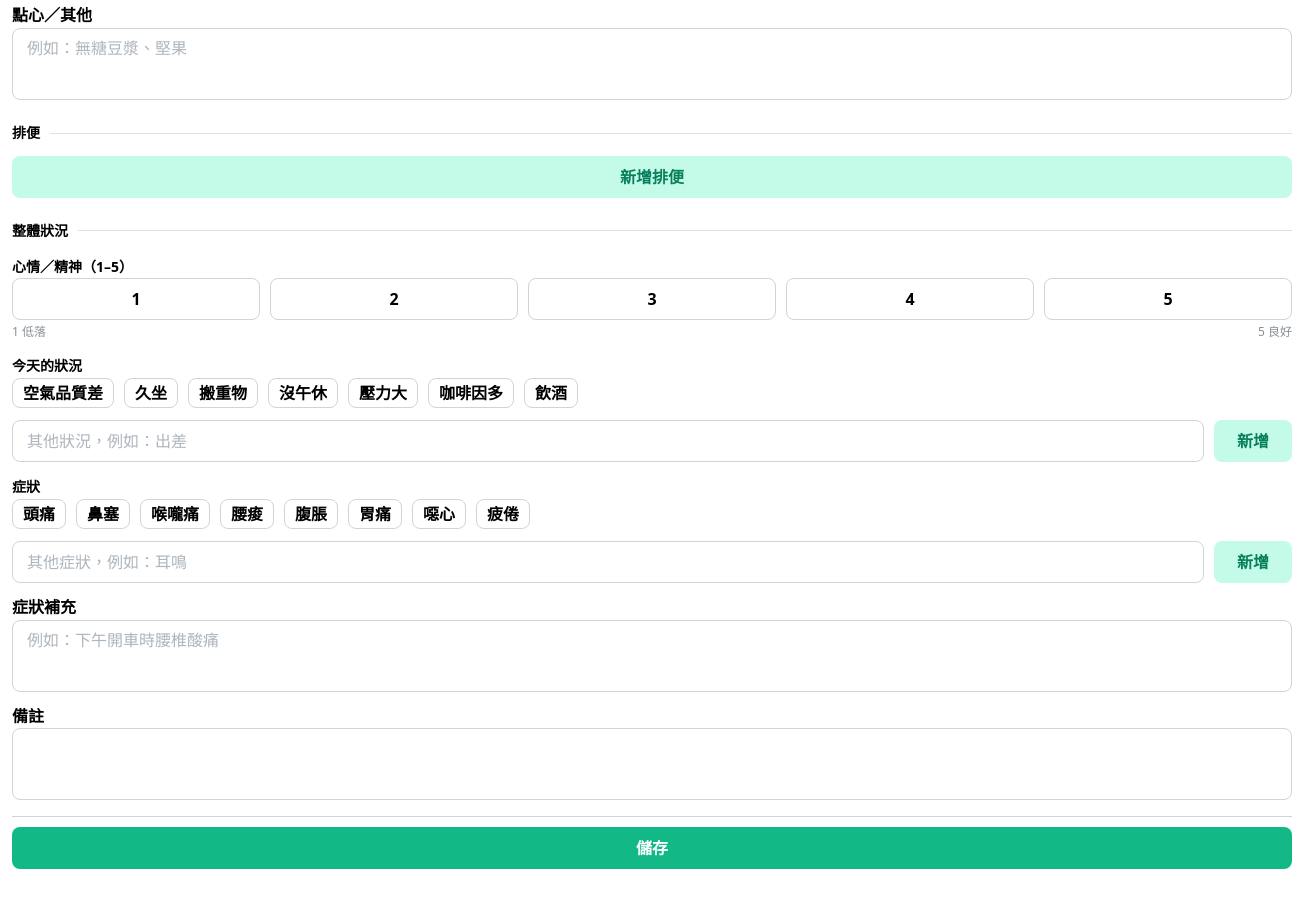
Test case: EntryForm：症狀 › 自己輸入的症狀可以取消選取
(page scrolled)
Step 1. Type "耳鳴" into the field named "新增其他症狀" → (608, 562), box [12, 541, 1204, 583]
Then press Enter
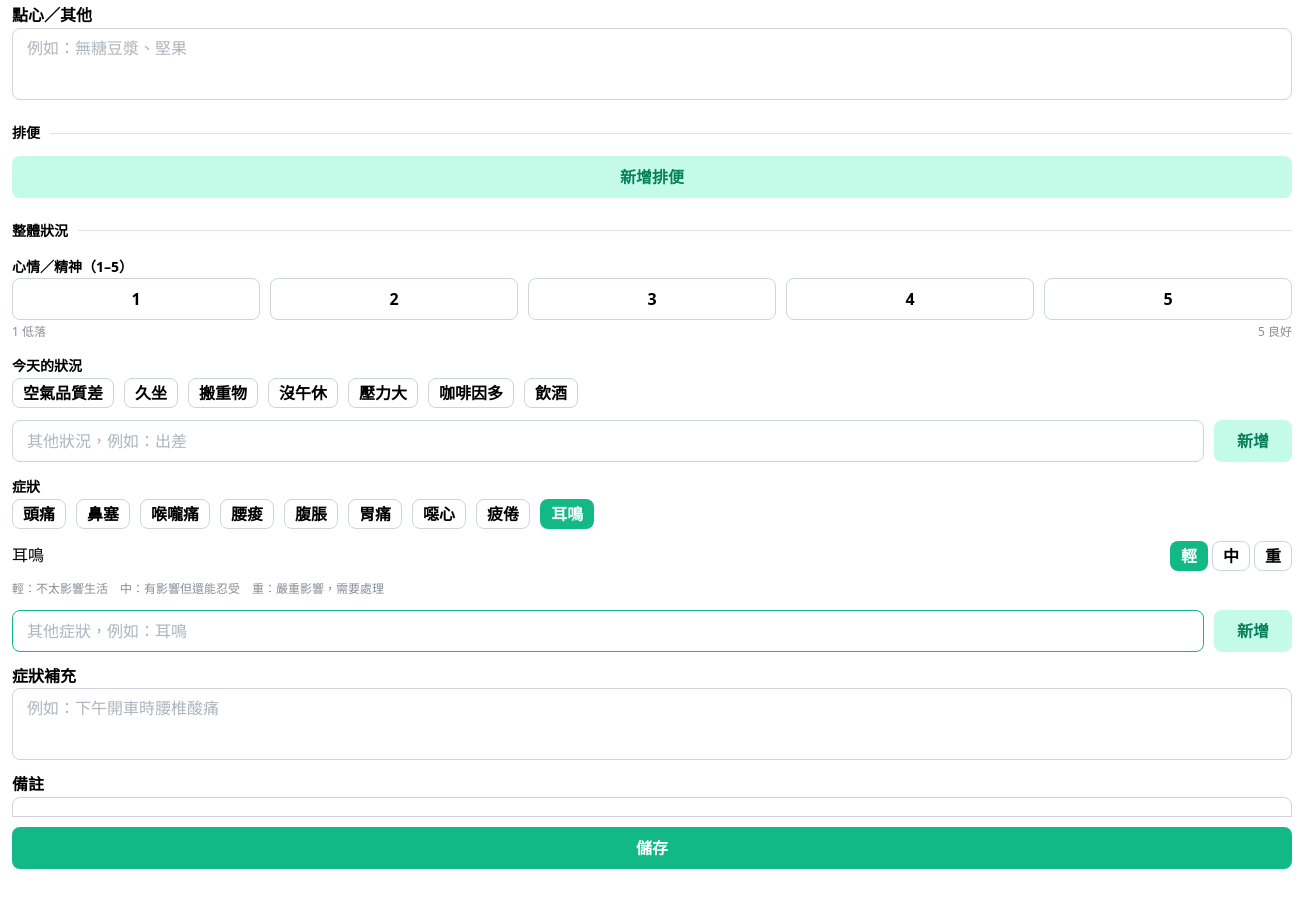
Step 2. Click the button "耳鳴" → (567, 514), box [540, 499, 594, 529]
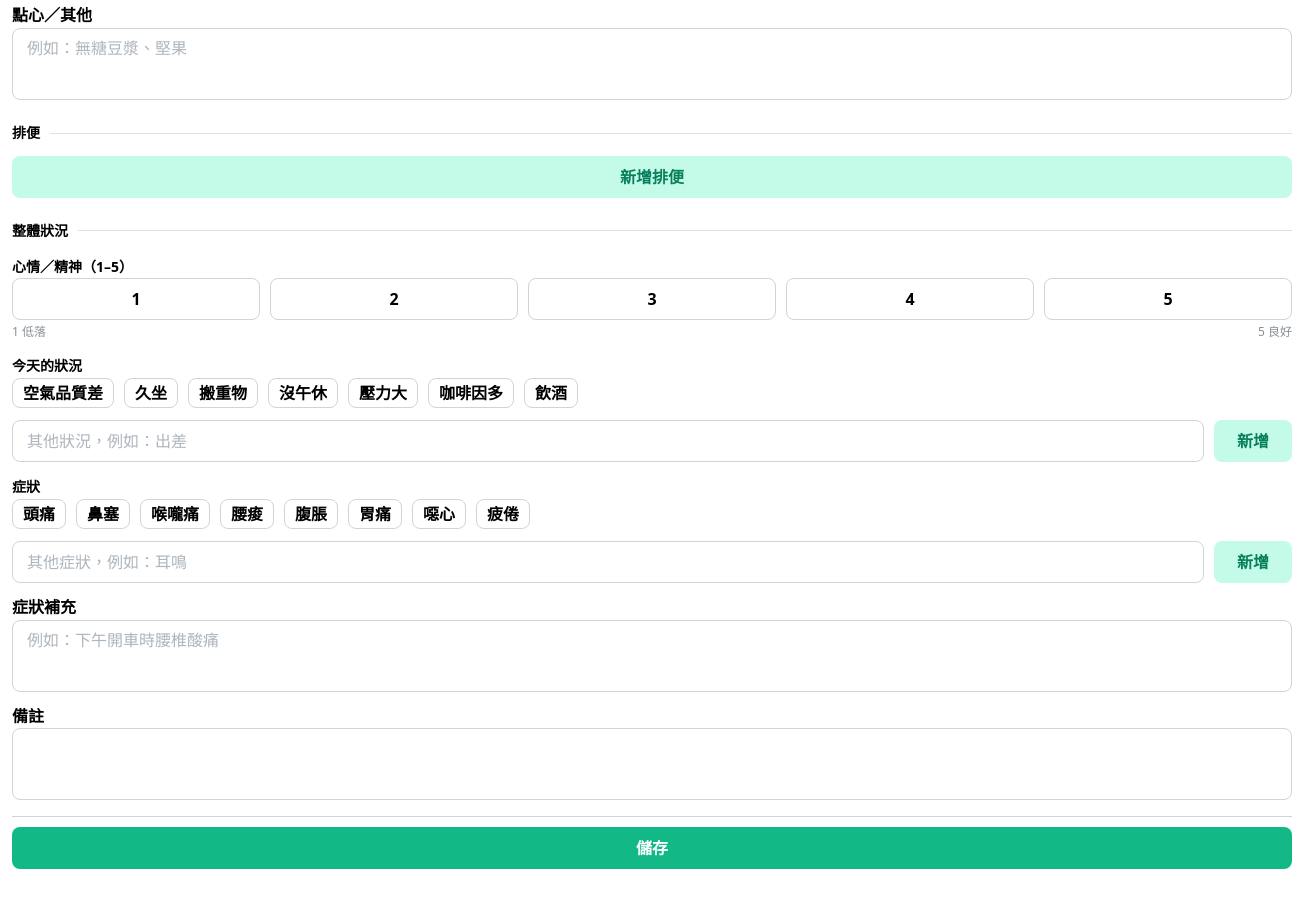
Expected: the element "耳鳴的嚴重程度" is gone
